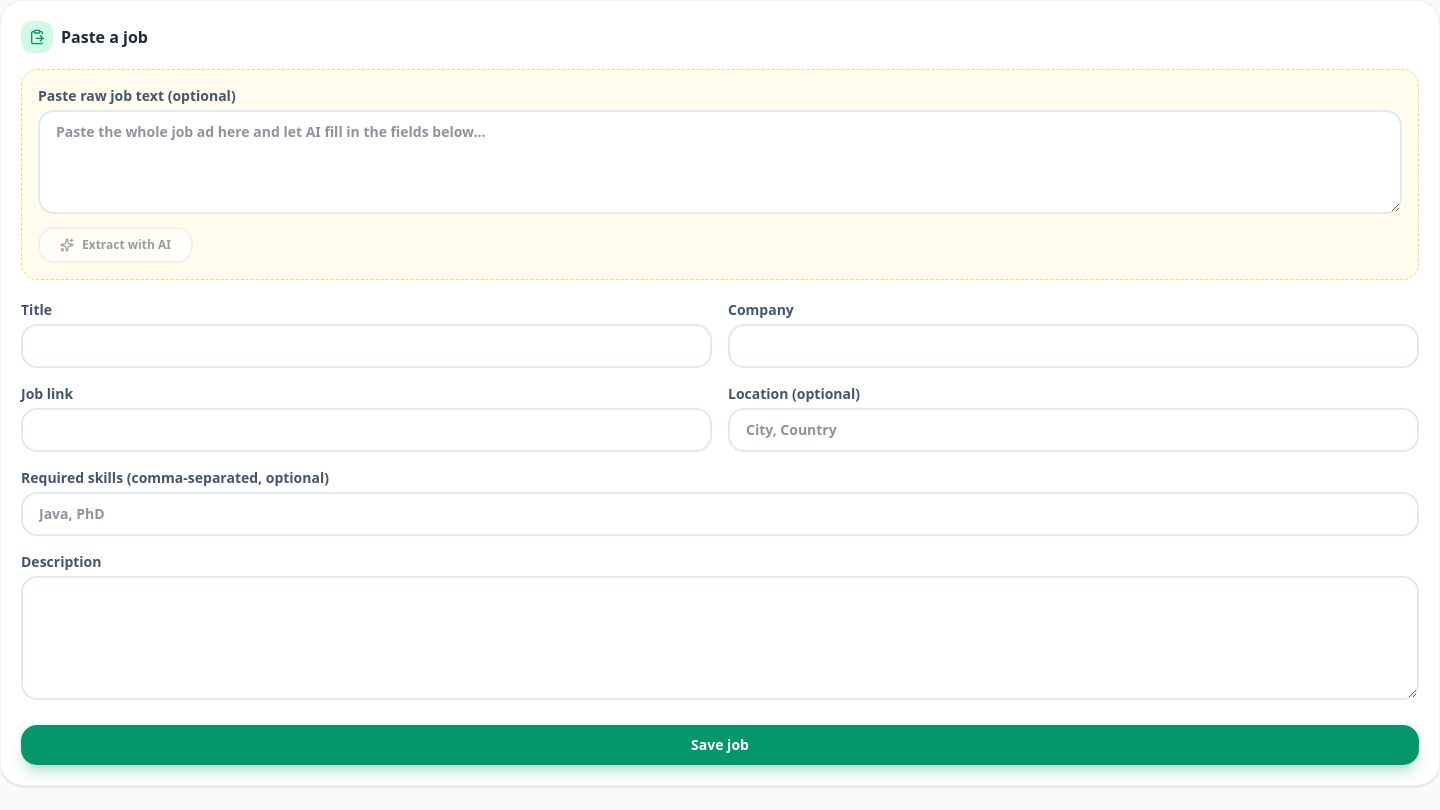
Scenario: PasteJobForm › shows an AI error without touching the form fields
Type "Some job text" into the text box labelled "Paste raw job text (optional)" at (720, 162), box [38,110,1402,214]
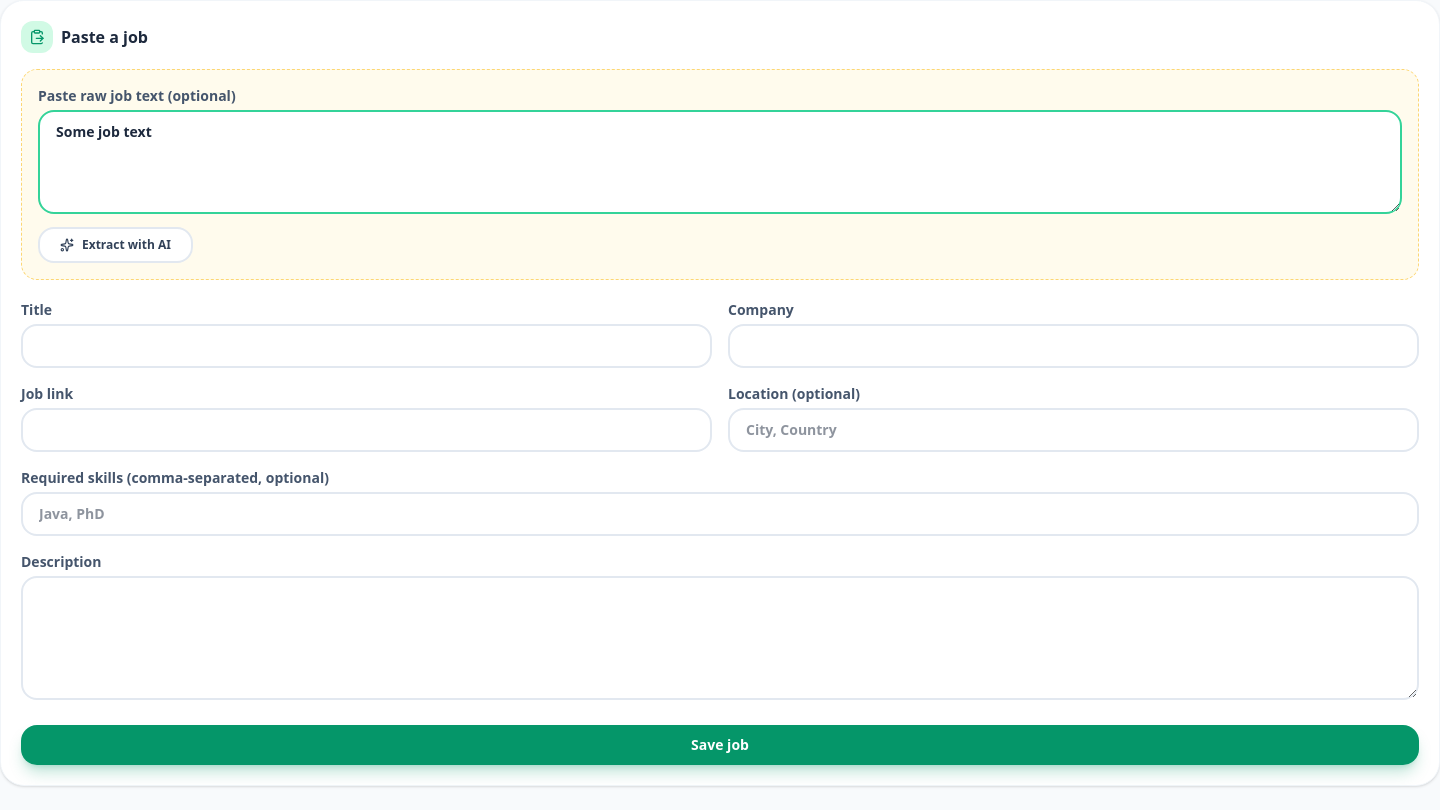
Click the button "Extract with AI" at (115, 245), box [38,227,193,263]
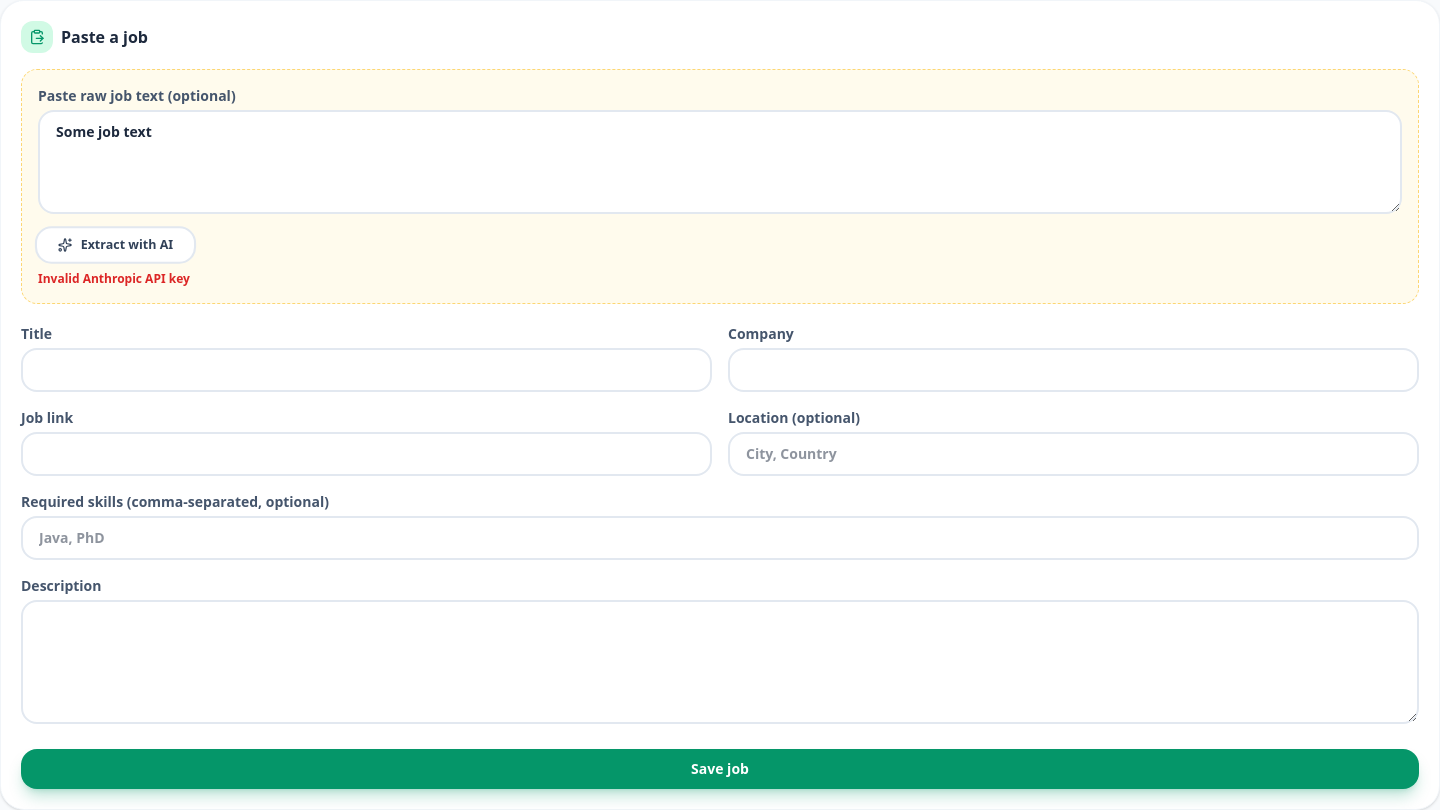
Expected: the field labelled "Title" is empty, [21,348,712,392]
Now the message reads "Invalid Anthropic API key", box [38,270,190,287]
